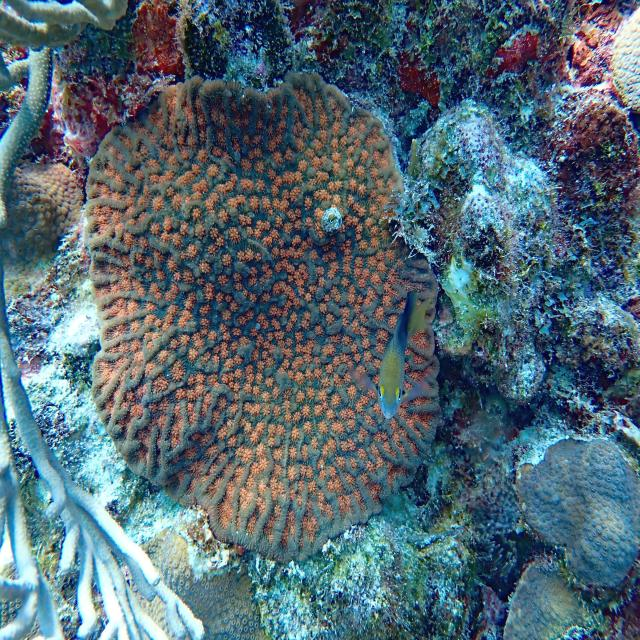Coral: (84, 69, 442, 565), (0, 0, 206, 640), (515, 437, 640, 588), (129, 526, 270, 640), (0, 160, 83, 304), (503, 560, 593, 640), (610, 6, 640, 111)
